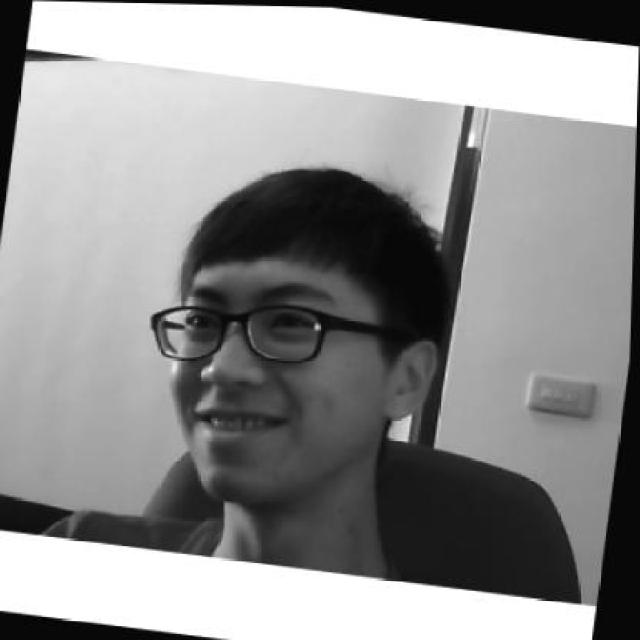attentif: (129, 146, 460, 523)
